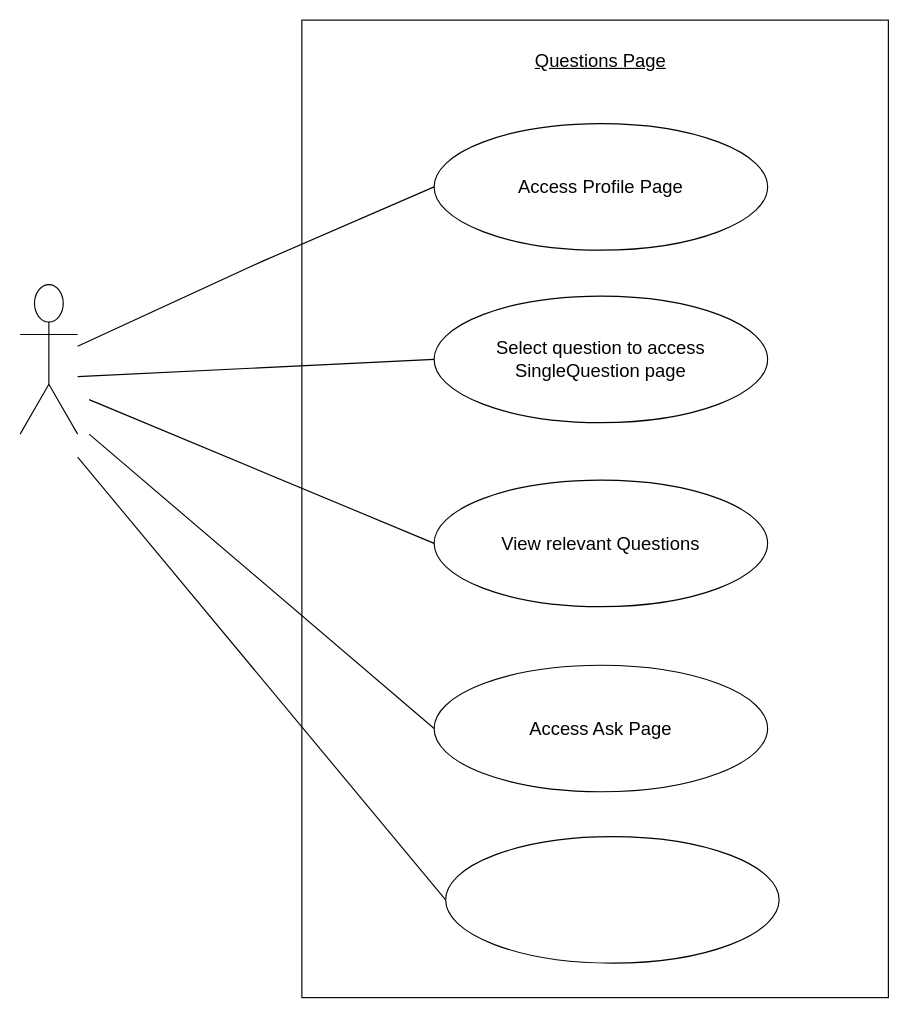
Image size: 909x1027. Some labels were removed from this diagram. The shapes that lost their labels are listed below. From the top down, each one's box as (x1, y1, x2, y2) in pixels, then its label:
(19, 283, 78, 434): User
(444, 835, 779, 963): Access Community Page
